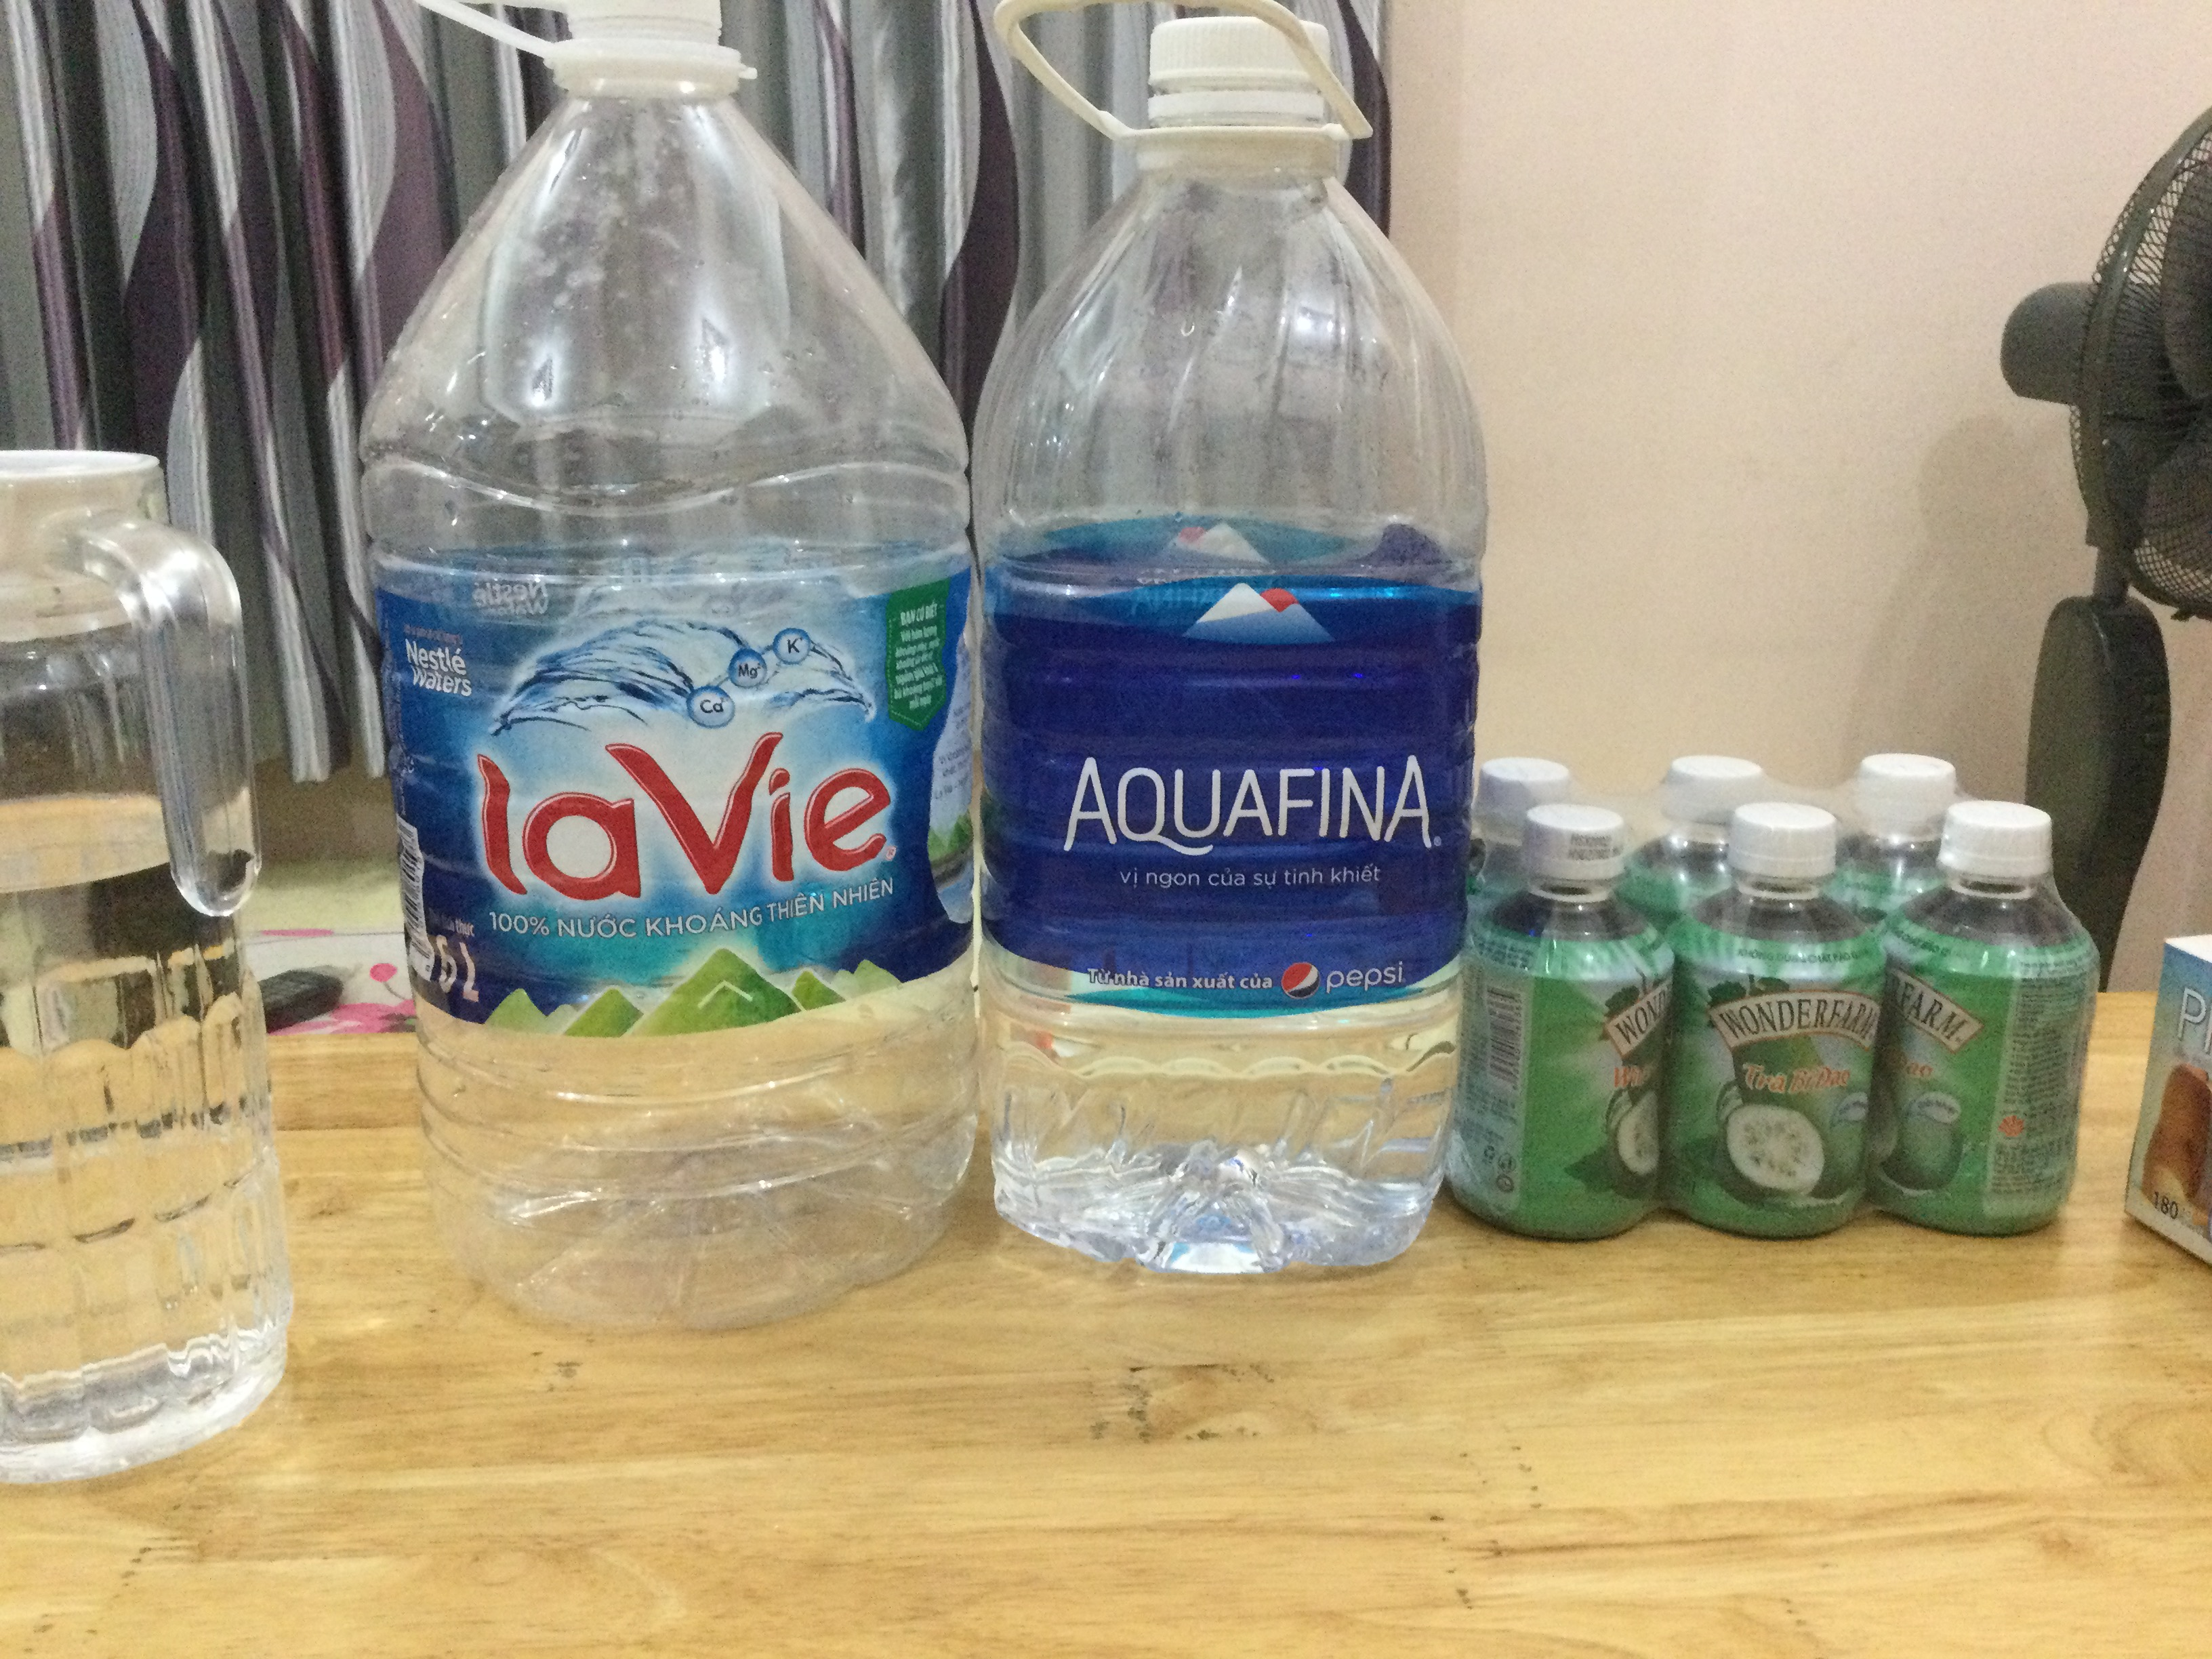aquafina: (1055, 751, 1435, 868)
lavie: (458, 739, 899, 896)
pepsi: (1277, 958, 1324, 1002)
wonderfarm: (1714, 1004, 1876, 1053)
